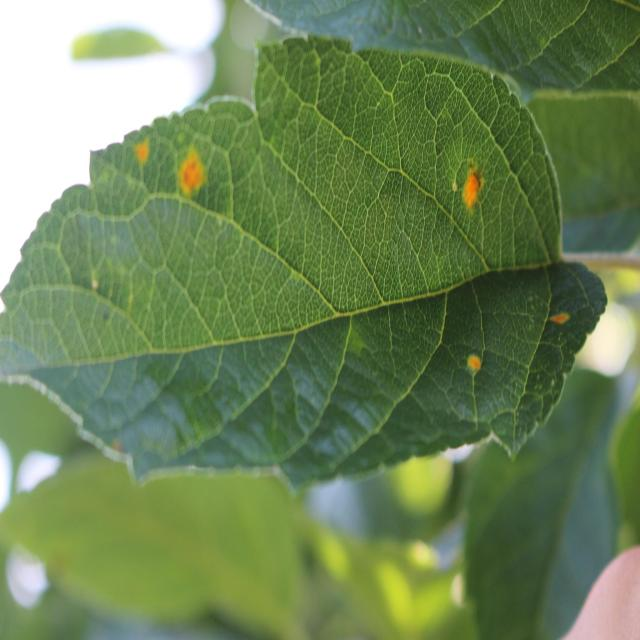Rust: (174, 140, 211, 198), (458, 160, 484, 235), (532, 299, 576, 336), (133, 123, 158, 183), (465, 337, 485, 386)
